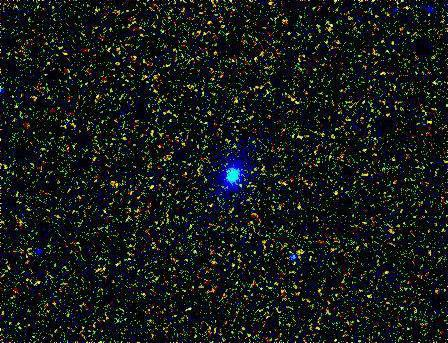star: (289, 237, 319, 267)
